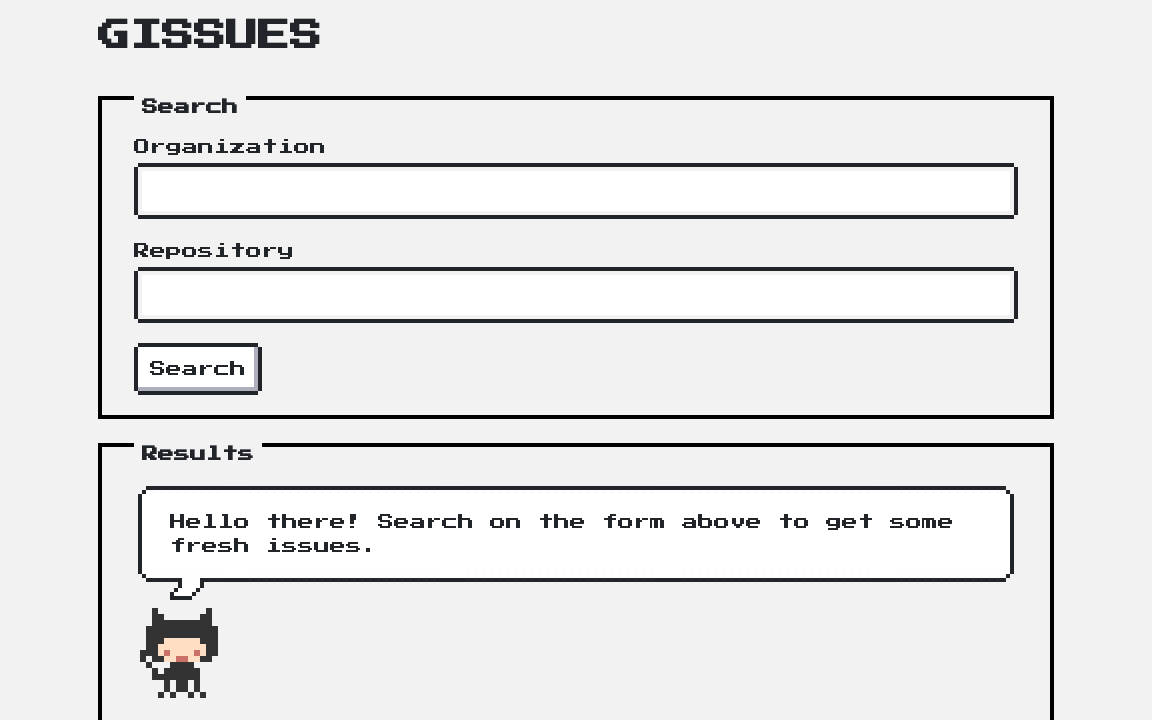
Returns a not found page if issues are not available
Type "leandrooriente" into the field with test id "organization-search-input".
click(576, 191); type("leandrooriente")  # box 138,167 -> 1014,215
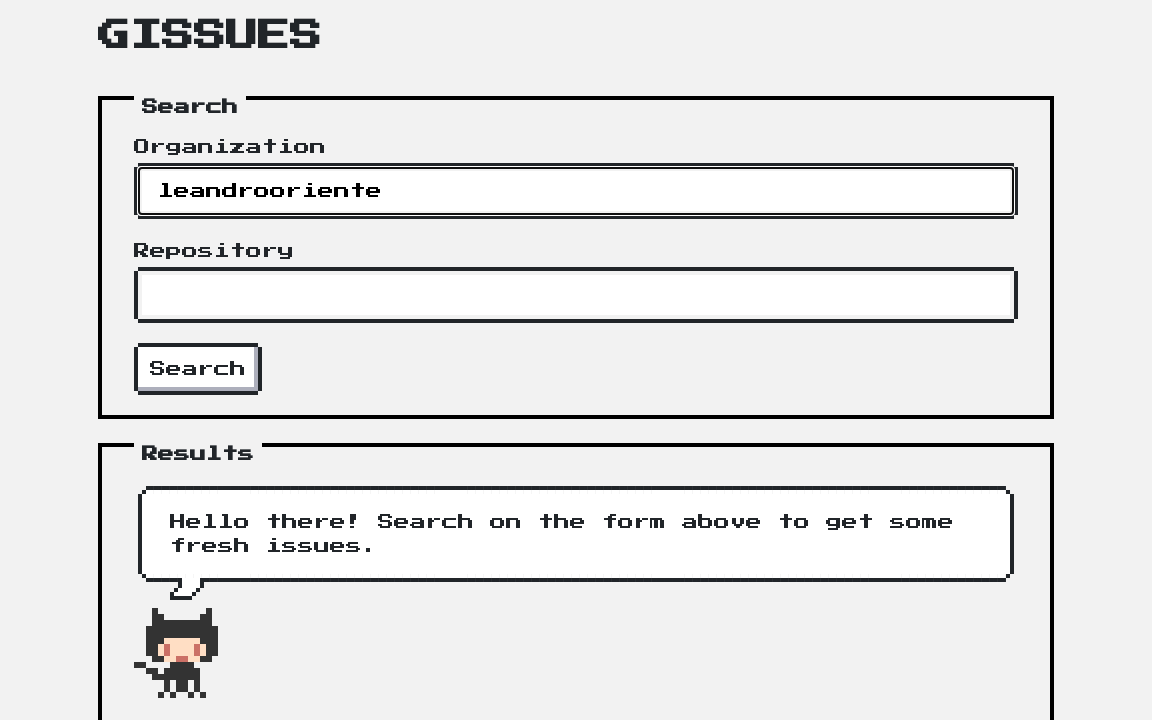
Type "gissues-non-existing" into the field with test id "repository-search-input".
click(576, 295); type("gissues-non-existing")  # box 138,271 -> 1014,319
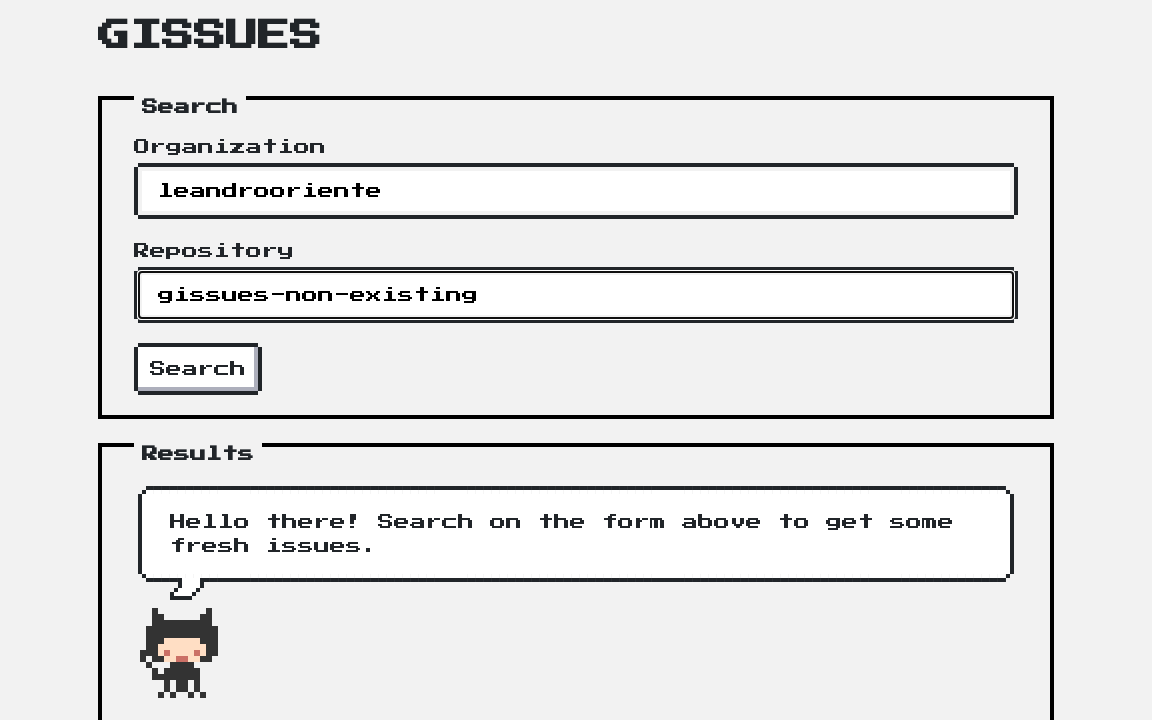
Click the button with test id "search-button".
click(198, 369)  # box 138,347 -> 258,391
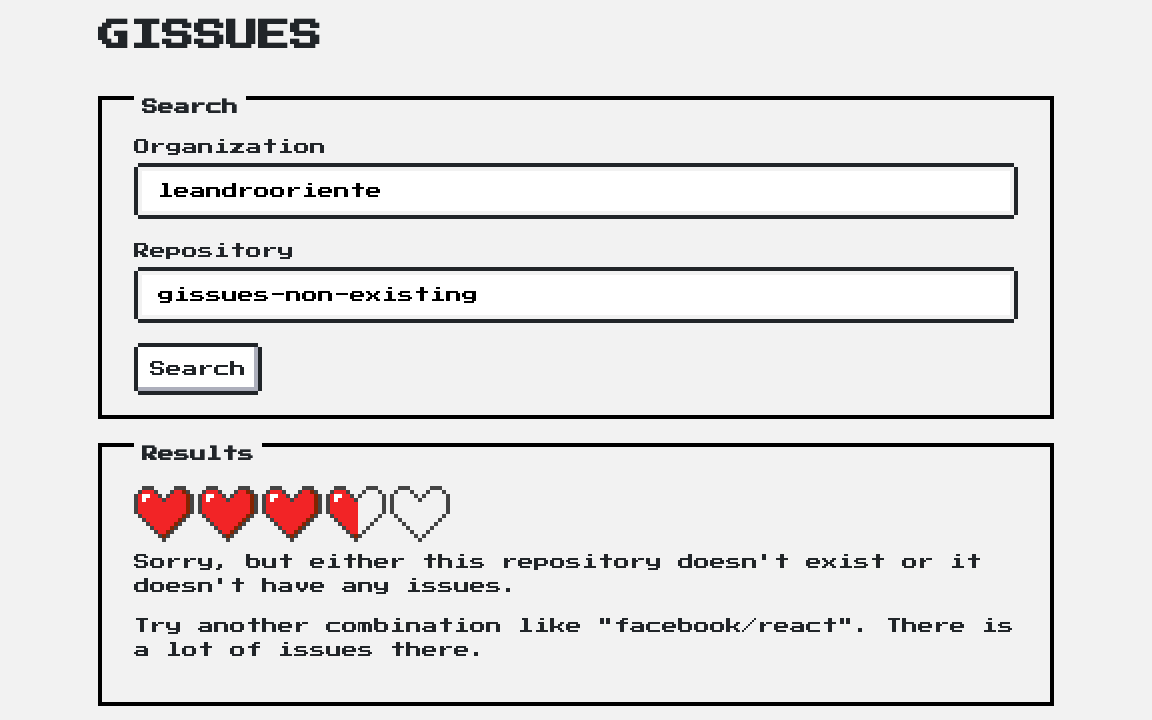
Now the element with test id "not-found-page" is shown, box 134,482 -> 1018,662
